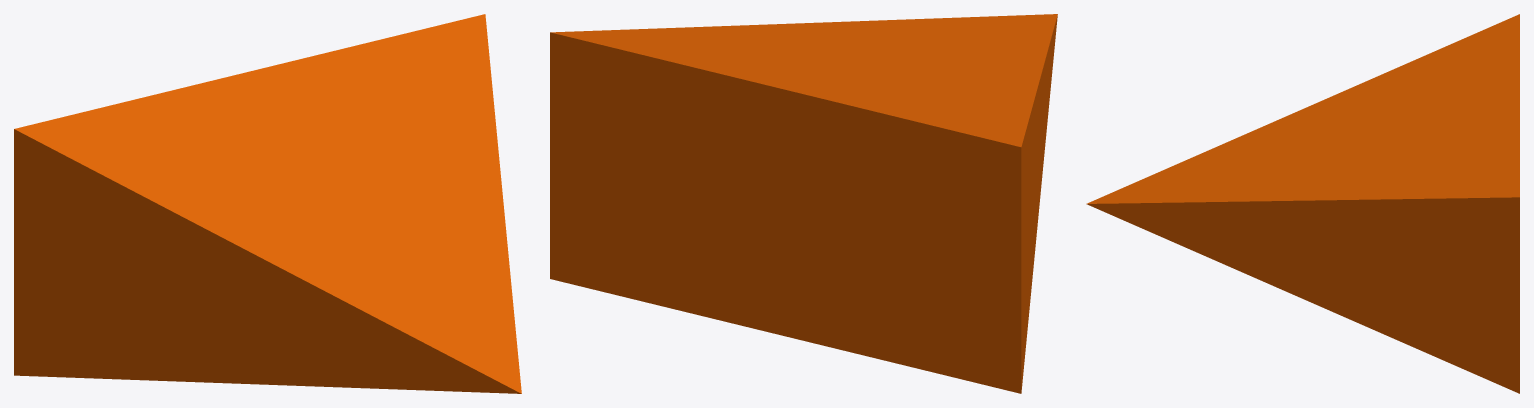
File: boid.fbx
The picture shows the model from 3 angles, left to right: view 1: azimuth 30°, elevation 25°; view 2: azimuth 150°, elevation 25°; view 3: azimuth 270°, elevation 25°; orthographic projection. The views are drawn at different scales.
Visible parts, largest first — view 1: Cube; view 2: Cube; view 3: Cube.
Boxes of the visible parts, x1,y1,x2,y2 form: Cube: (14, 14, 521, 393); Cube: (550, 14, 1057, 393); Cube: (1086, 14, 1519, 393).
Size of the model in its own units: 100 by 50 by 100.
